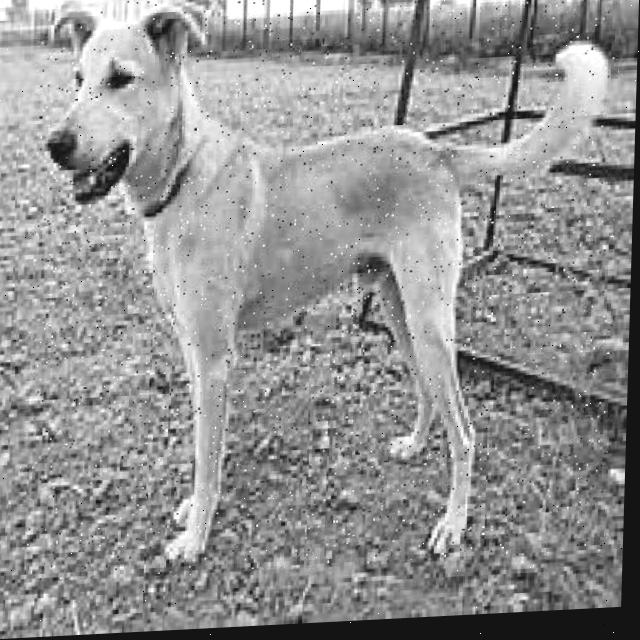Dog: (26, 0, 625, 582)
